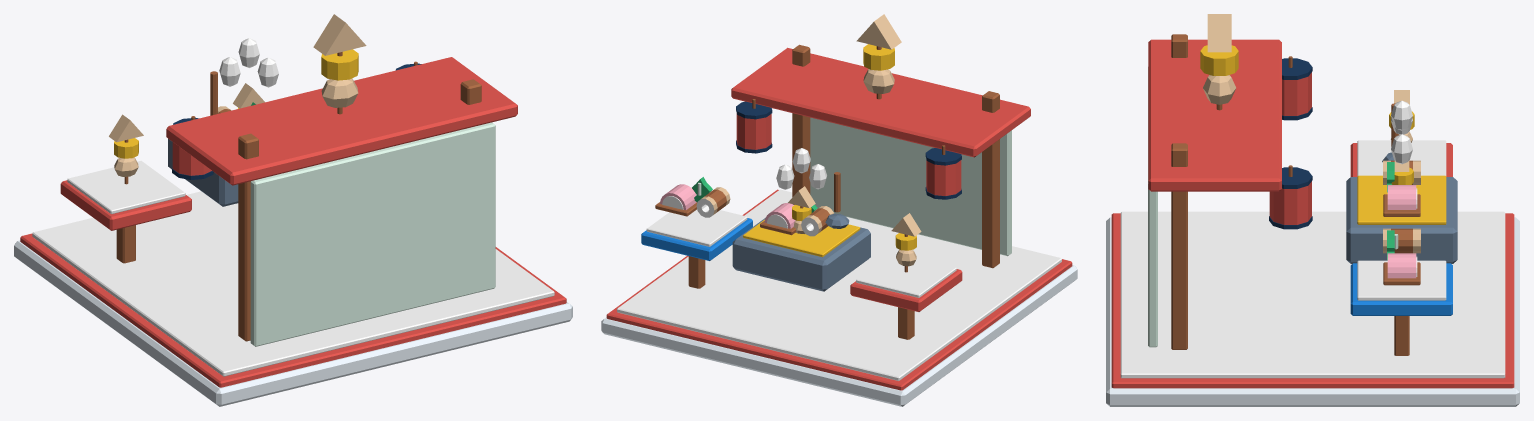
The model's file is Building_Oden_2x2_v002.fbx.
The picture shows the model from 3 angles, left to right: view 1: azimuth 30°, elevation 25°; view 2: azimuth 150°, elevation 25°; view 3: azimuth 270°, elevation 25°; orthographic projection. The views are drawn at different scales.
Visible parts, largest first — view 1: FixedShell, EffectPartMesh, OutputItemMesh; view 2: FixedShell, InputItemMesh, ProcessRawMesh, EffectPartMesh, OutputItemMesh, ProcessFinishedMesh, WorkingPartMesh; view 3: FixedShell, InputItemMesh, ProcessRawMesh, EffectPartMesh, ProcessFinishedMesh.
Boxes of the visible parts, bbox=[...] form: FixedShell: bbox=[14, 14, 572, 406]; EffectPartMesh: bbox=[219, 38, 278, 87]; OutputItemMesh: bbox=[109, 114, 143, 184]; FixedShell: bbox=[601, 14, 1077, 406]; InputItemMesh: bbox=[655, 177, 730, 217]; ProcessRawMesh: bbox=[760, 203, 833, 236]; EffectPartMesh: bbox=[776, 148, 826, 189]; OutputItemMesh: bbox=[891, 213, 921, 272]; ProcessFinishedMesh: bbox=[788, 186, 815, 233]; WorkingPartMesh: bbox=[825, 172, 849, 228]; FixedShell: bbox=[1106, 14, 1519, 406]; InputItemMesh: bbox=[1383, 228, 1420, 285]; ProcessRawMesh: bbox=[1383, 160, 1420, 216]; EffectPartMesh: bbox=[1391, 100, 1412, 164]; ProcessFinishedMesh: bbox=[1391, 161, 1413, 184].
Size of the model in its own units: 186 by 152 by 186.
